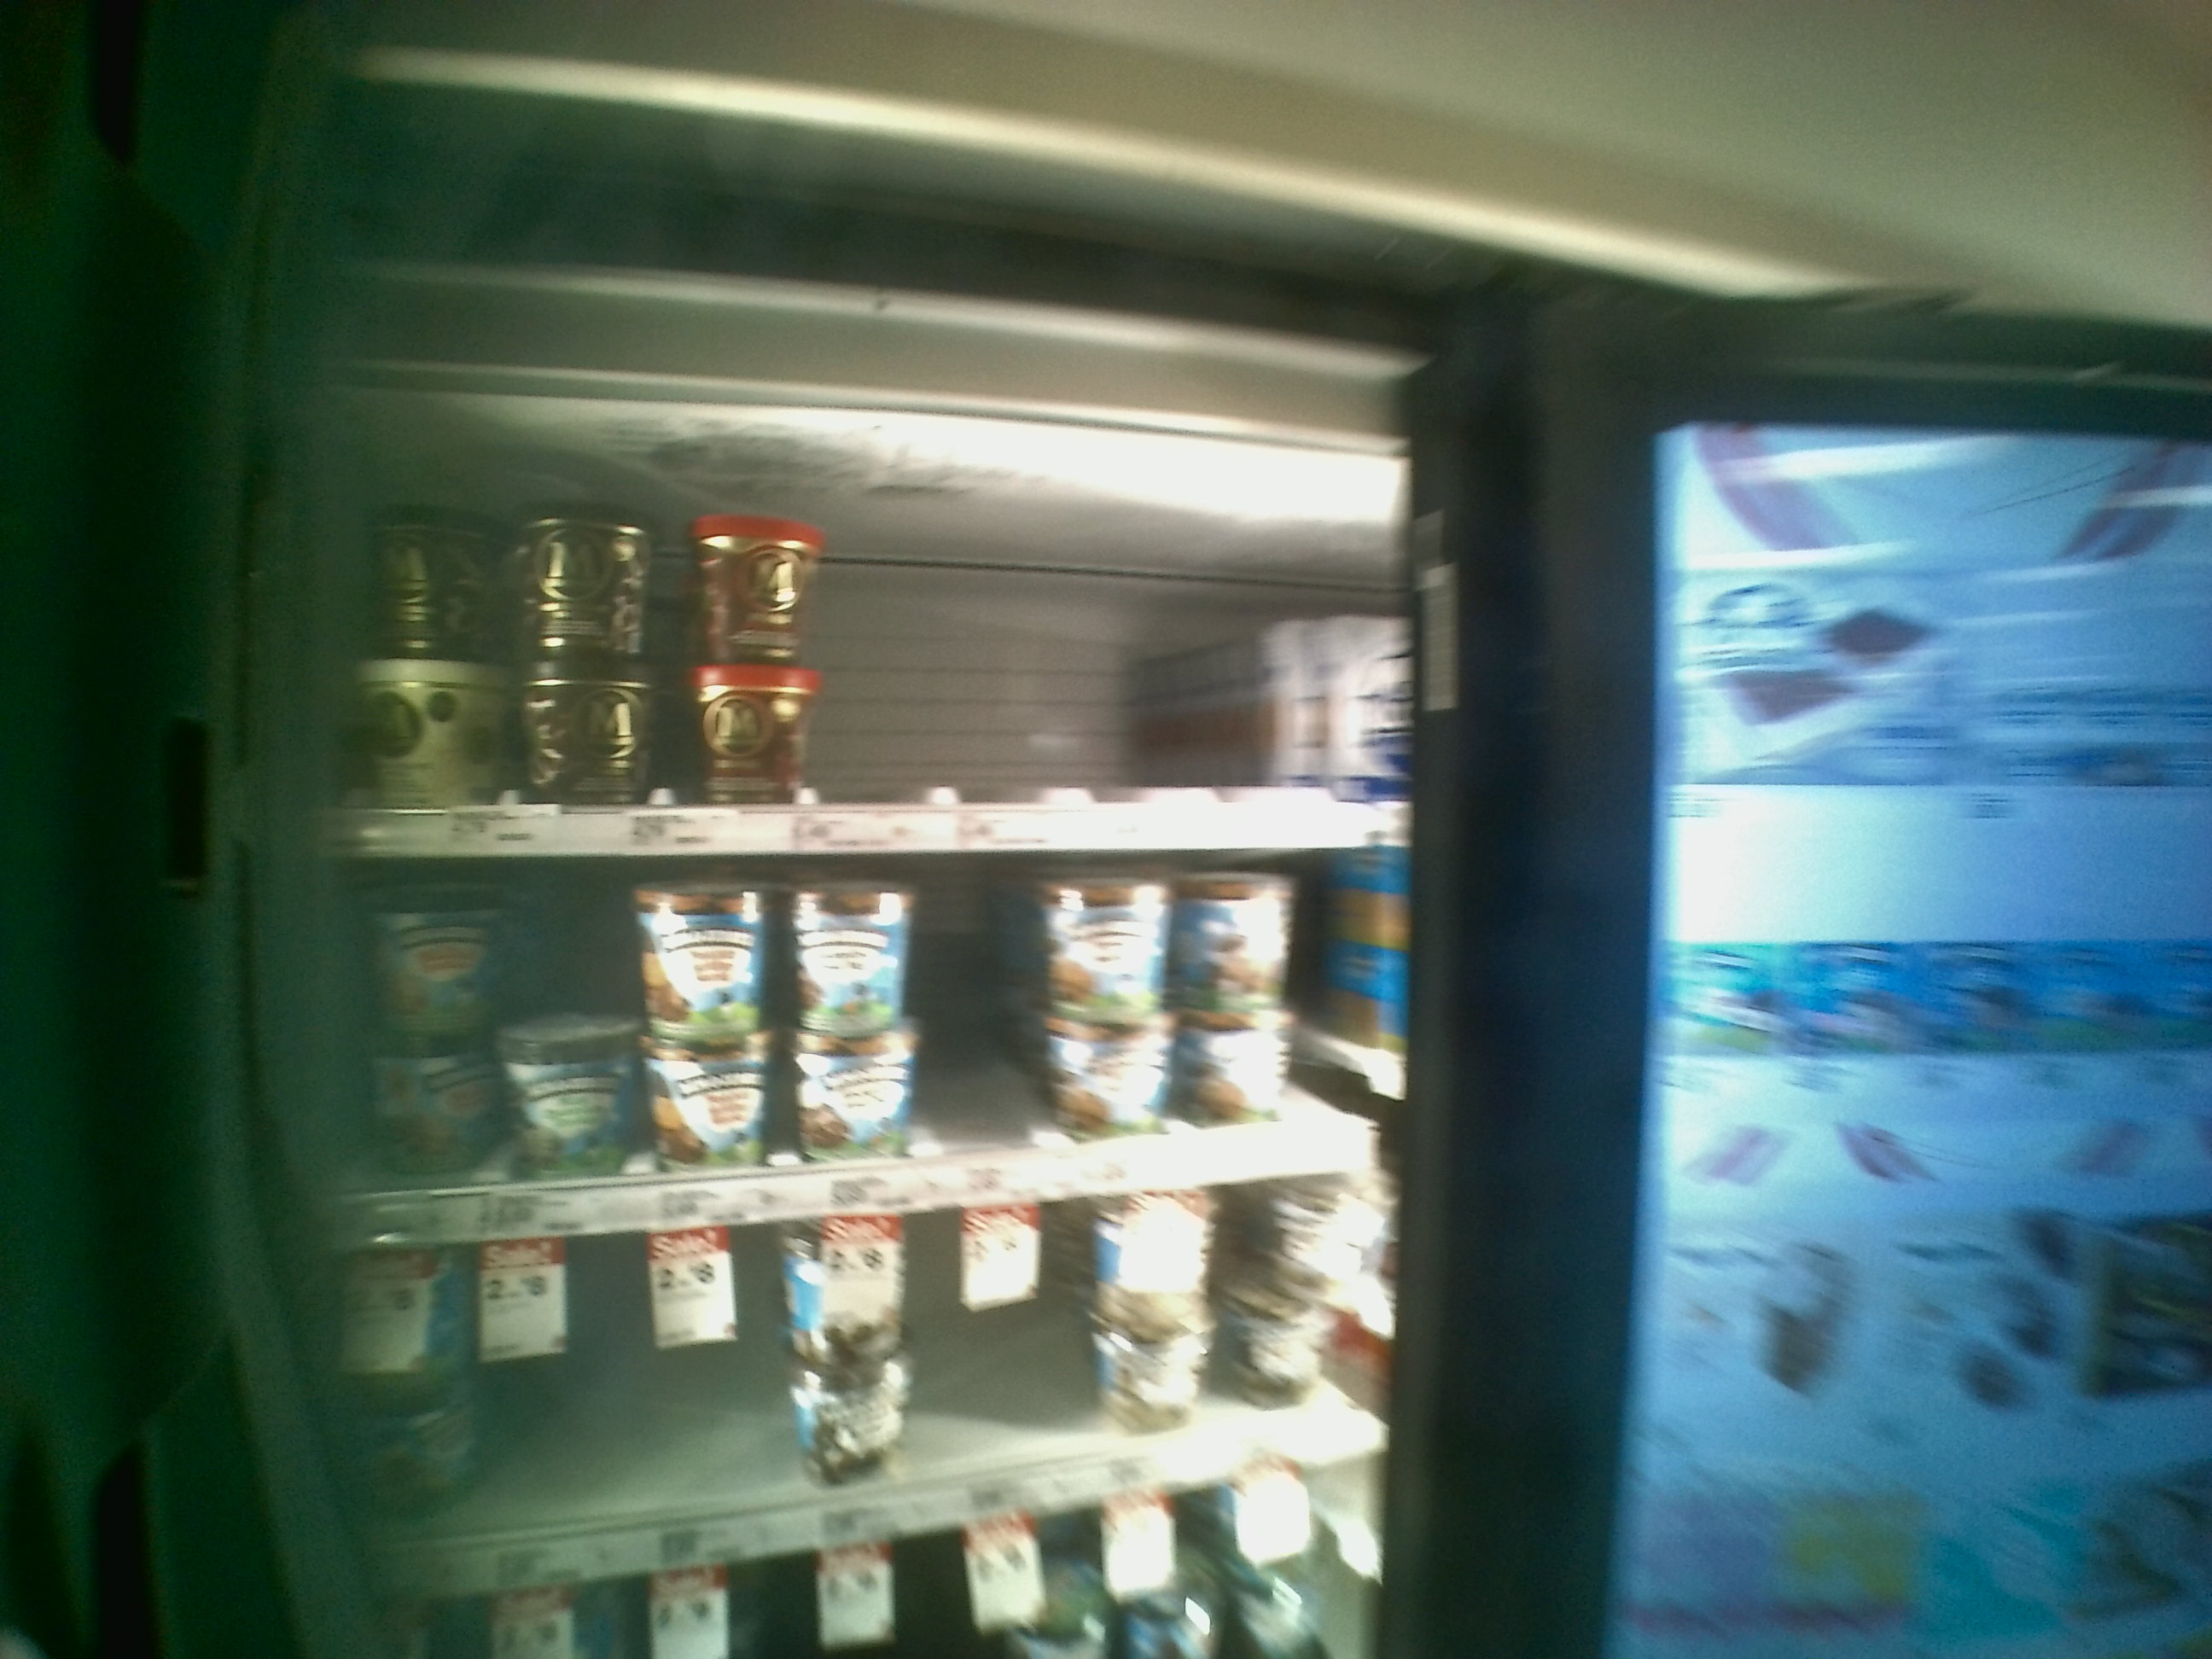shelf: (331, 432, 1407, 864), (324, 863, 1407, 1248)
